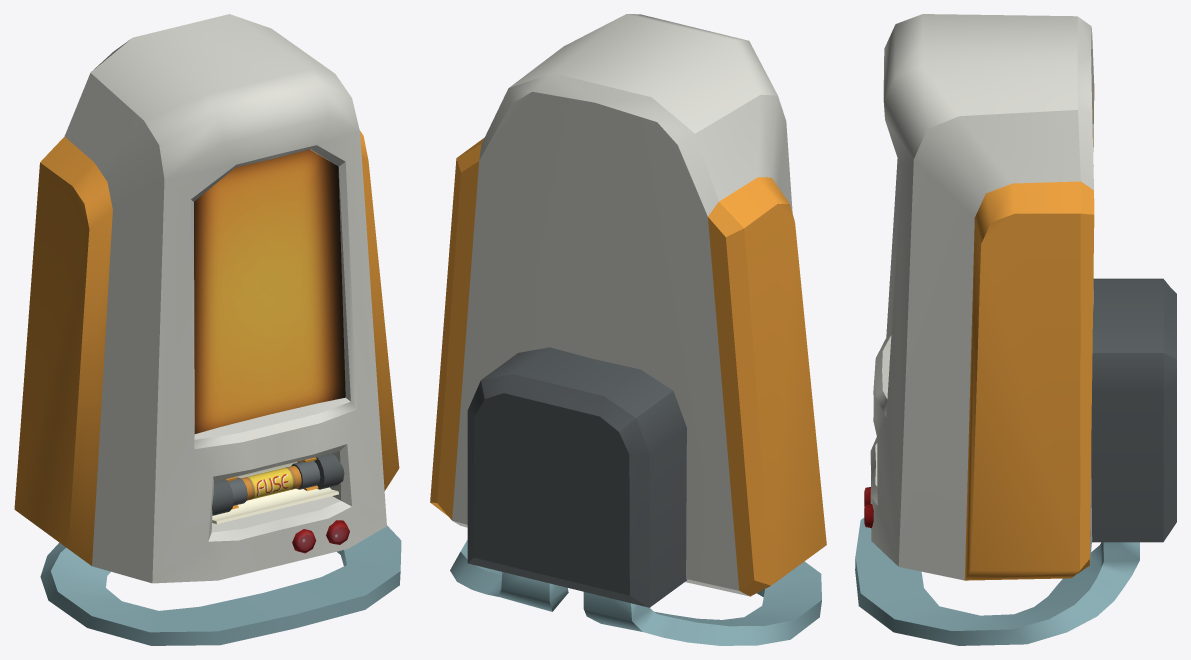
File: Heater.fbx
3 renders of one model, left to right at view 1: azimuth 30°, elevation 25°; view 2: azimuth 150°, elevation 25°; view 3: azimuth 270°, elevation 25°, orthographic. The views are drawn at different scales.
Visible parts, largest first — view 1: Heater, HeaterGlow, FuseHeater; view 2: Heater; view 3: Heater.
Part boxes in pixels (x1,y1,x2,y2): Heater: [14, 14, 401, 645]; HeaterGlow: [194, 149, 345, 433]; FuseHeater: [228, 460, 320, 505]; Heater: [430, 14, 826, 645]; Heater: [855, 14, 1176, 645].
Bounding box in the file's own units: 3.29 × 5.01 × 2.74.
